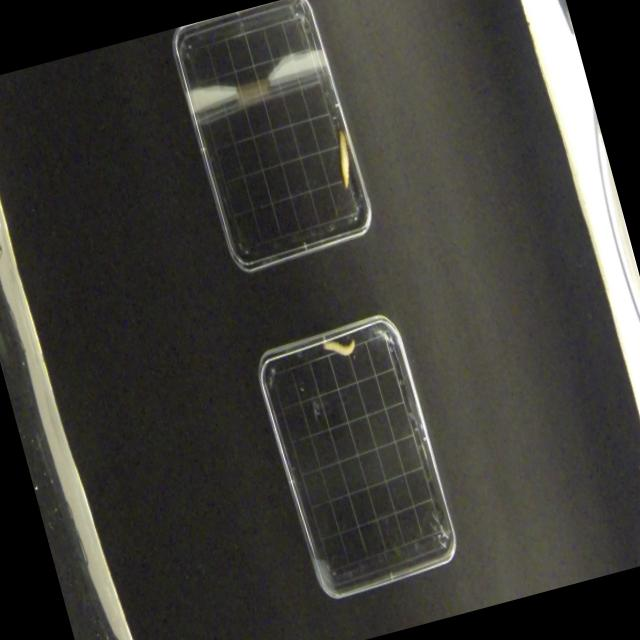larva: (331, 132, 356, 186), (320, 334, 358, 362)
